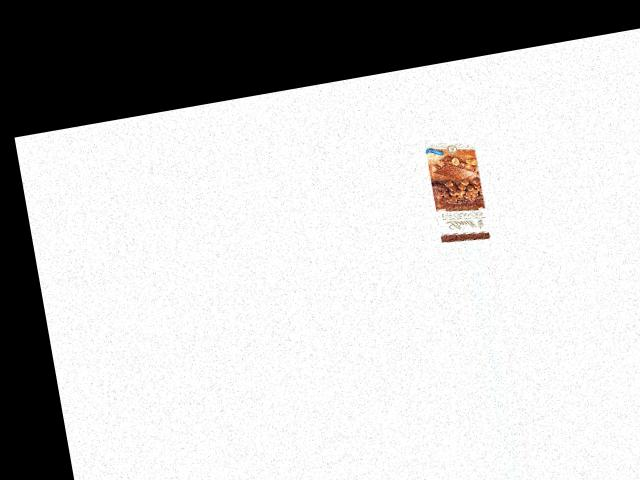chocolate: (421, 137, 497, 243)
